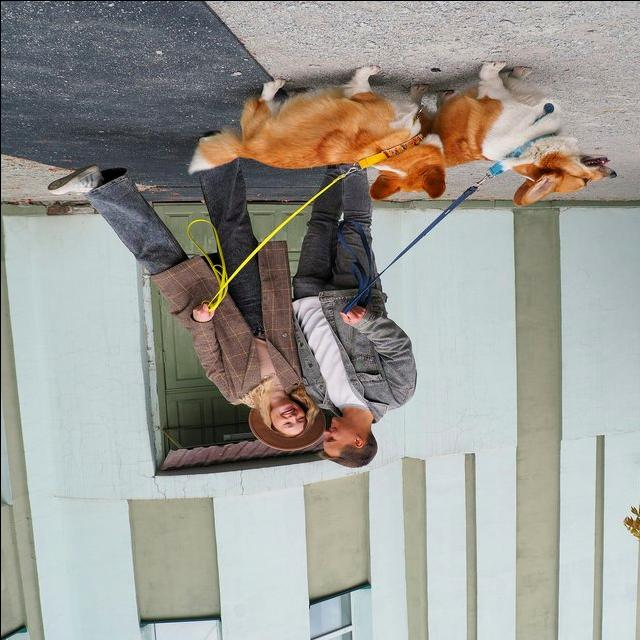corgi: (185, 64, 449, 202), (409, 60, 616, 208)
